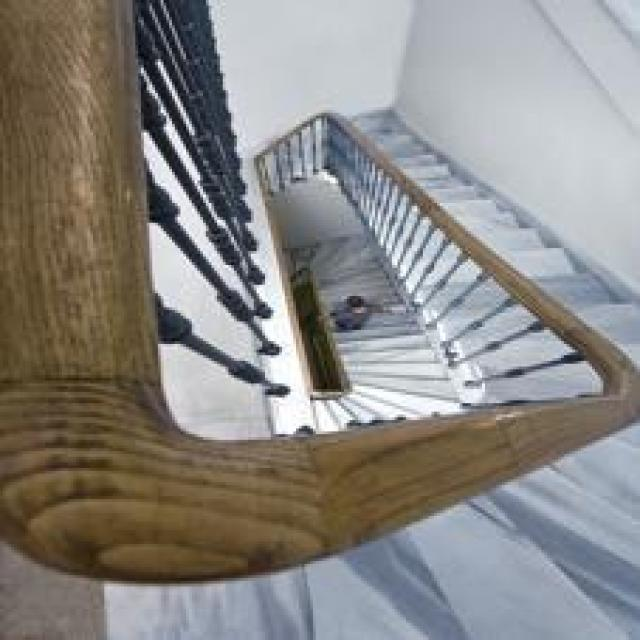downstair: (396, 334, 630, 604)
